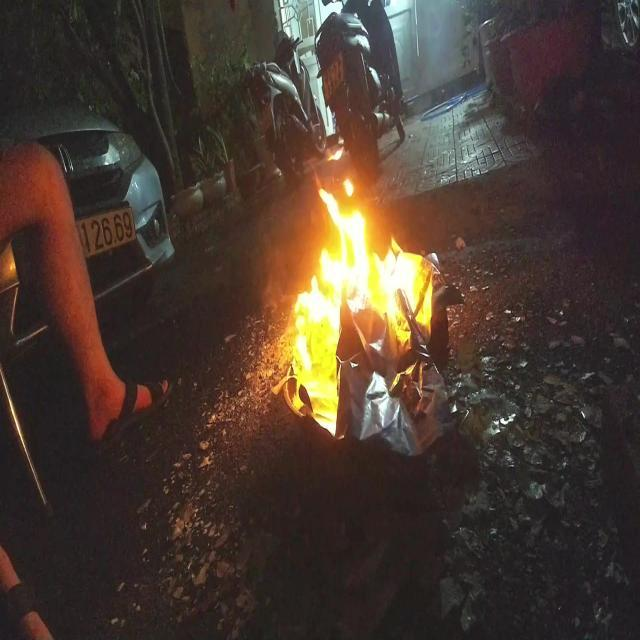Fire: (286, 173, 434, 434)
